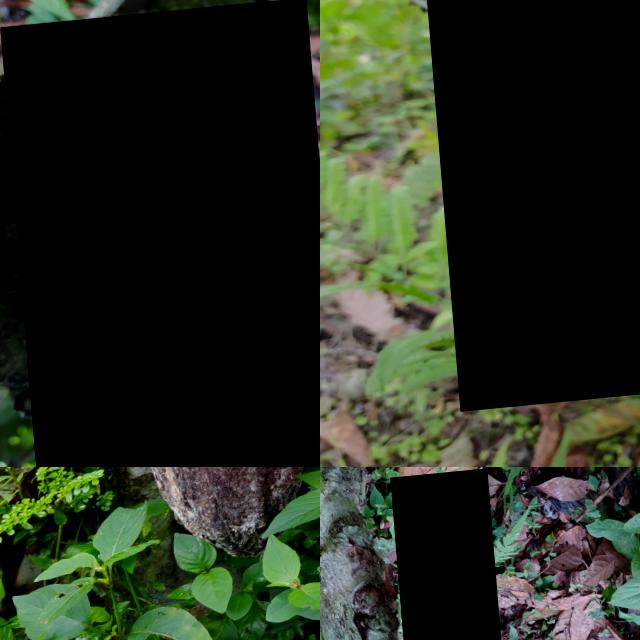Fitoftora: (418, 0, 640, 415), (116, 467, 305, 571)
Monilia: (0, 7, 320, 467)
Sana: (385, 475, 500, 640)
